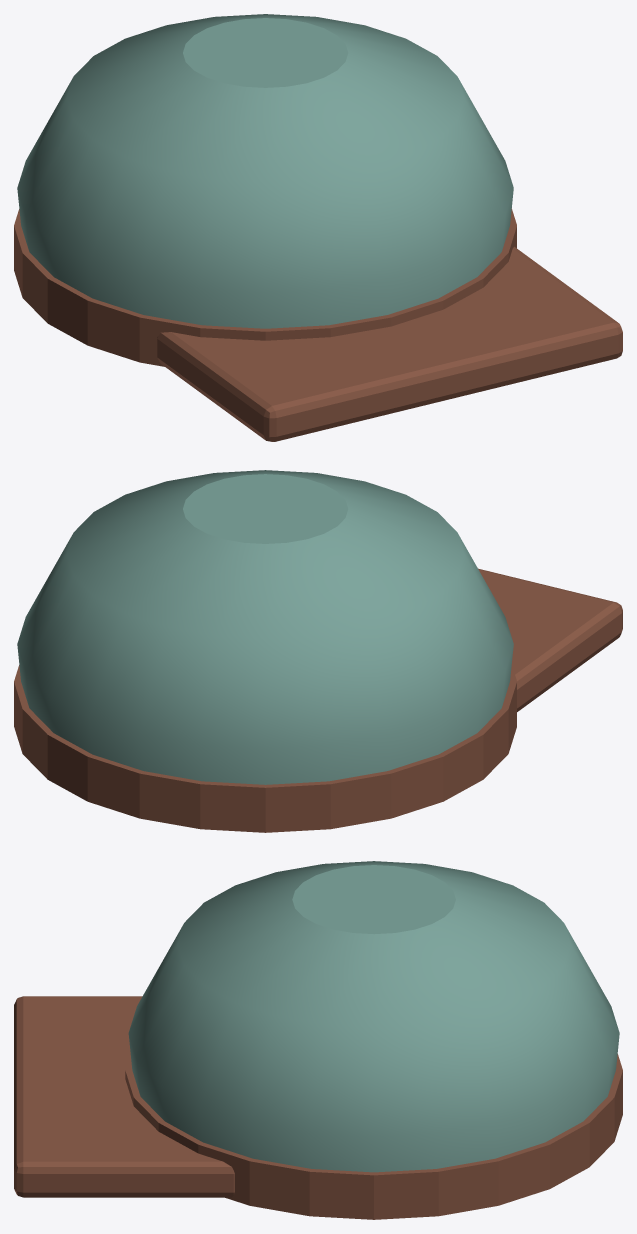
Rendered from profession_carpenter_cap.glb.
The picture shows the model from 3 angles, top to bottom: view 1: azimuth 30°, elevation 25°; view 2: azimuth 150°, elevation 25°; view 3: azimuth 270°, elevation 25°; orthographic projection.
Parts seen in each view (by area): view 1: profession_carpenter_cap; view 2: profession_carpenter_cap; view 3: profession_carpenter_cap.
Boxes of the visible parts, bbox=[...] form: profession_carpenter_cap: bbox=[14, 14, 622, 441]; profession_carpenter_cap: bbox=[14, 470, 622, 832]; profession_carpenter_cap: bbox=[14, 861, 622, 1219].
Size of the model in its own units: 0.304 by 0.145 by 0.372.
